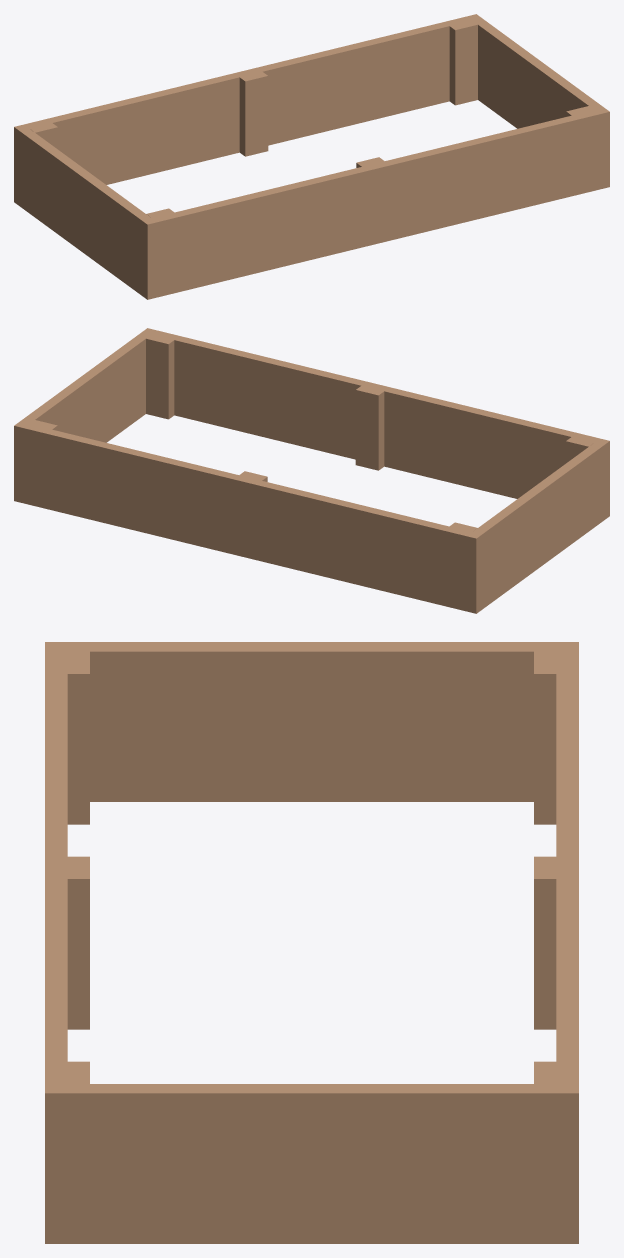
Rendered from oiled.glb.
3 views of the same model, one above another, from view 1: azimuth 30°, elevation 25°; view 2: azimuth 150°, elevation 25°; view 3: azimuth 270°, elevation 25° (orthographic). The views are drawn at different scales.
Visible parts, largest first — view 1: long_side.4, long_side.2, long_side.3, long_side.1, short_side.3, short_side.4, short_side.1, mid_brace.1, corner_post.2, short_side.2, corner_post.1; view 2: long_side.3, long_side.1, long_side.4, long_side.2, short_side.3, short_side.4, short_side.1, mid_brace.2, corner_post.4, short_side.2, corner_post.3; view 3: short_side.4, short_side.3, short_side.2, short_side.1, long_side.3, long_side.4, corner_post.1, corner_post.3, mid_brace.1, mid_brace.2, long_side.1, long_side.2.
Part boxes in pixels (x1,y1,x2,y2): long_side.4: (142, 107, 609, 262); long_side.2: (142, 149, 609, 299); long_side.3: (14, 14, 481, 168); long_side.1: (14, 64, 449, 205); short_side.3: (19, 128, 151, 257); short_side.4: (472, 18, 603, 119); short_side.1: (19, 169, 141, 295); mid_brace.1: (239, 72, 268, 156); corner_post.2: (449, 20, 477, 105); short_side.2: (478, 62, 555, 128); corner_post.1: (30, 123, 57, 149); long_side.3: (14, 421, 481, 576); long_side.1: (14, 463, 481, 613); long_side.4: (142, 328, 609, 482); long_side.2: (174, 378, 609, 519); short_side.3: (472, 442, 604, 571); short_side.4: (20, 332, 151, 433); short_side.1: (482, 483, 604, 609); mid_brace.2: (355, 386, 384, 470); corner_post.4: (146, 334, 174, 419); short_side.2: (68, 376, 145, 442); corner_post.3: (566, 437, 593, 463); short_side.4: (67, 1084, 556, 1168); short_side.3: (67, 642, 556, 726); short_side.2: (67, 1168, 556, 1243); short_side.1: (90, 727, 533, 801); long_side.3: (556, 642, 578, 1168); long_side.4: (45, 642, 67, 1168); corner_post.1: (534, 651, 556, 824); corner_post.3: (67, 651, 89, 824); mid_brace.1: (534, 856, 556, 1029); mid_brace.2: (67, 856, 89, 1029); long_side.1: (556, 1168, 578, 1243); long_side.2: (45, 1168, 67, 1243).
Bounding box in the file's own units: 1.8 × 0.28 × 0.9.
